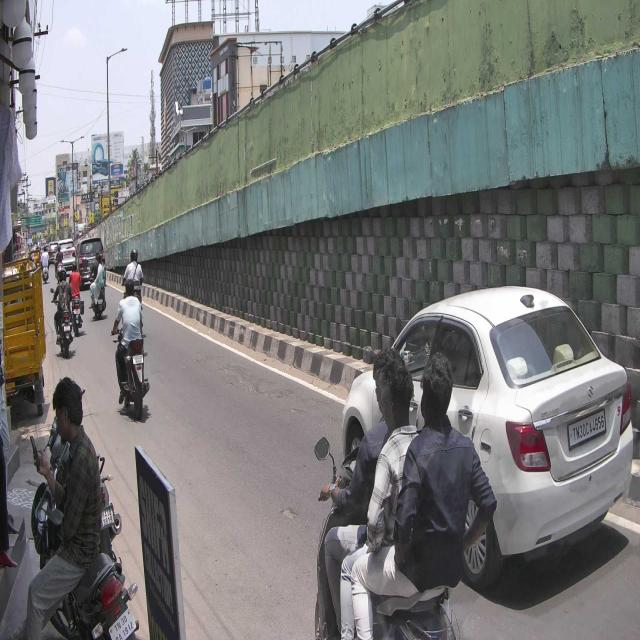single_rider: (110, 279, 150, 420)
triple_rider: (312, 343, 497, 640)
